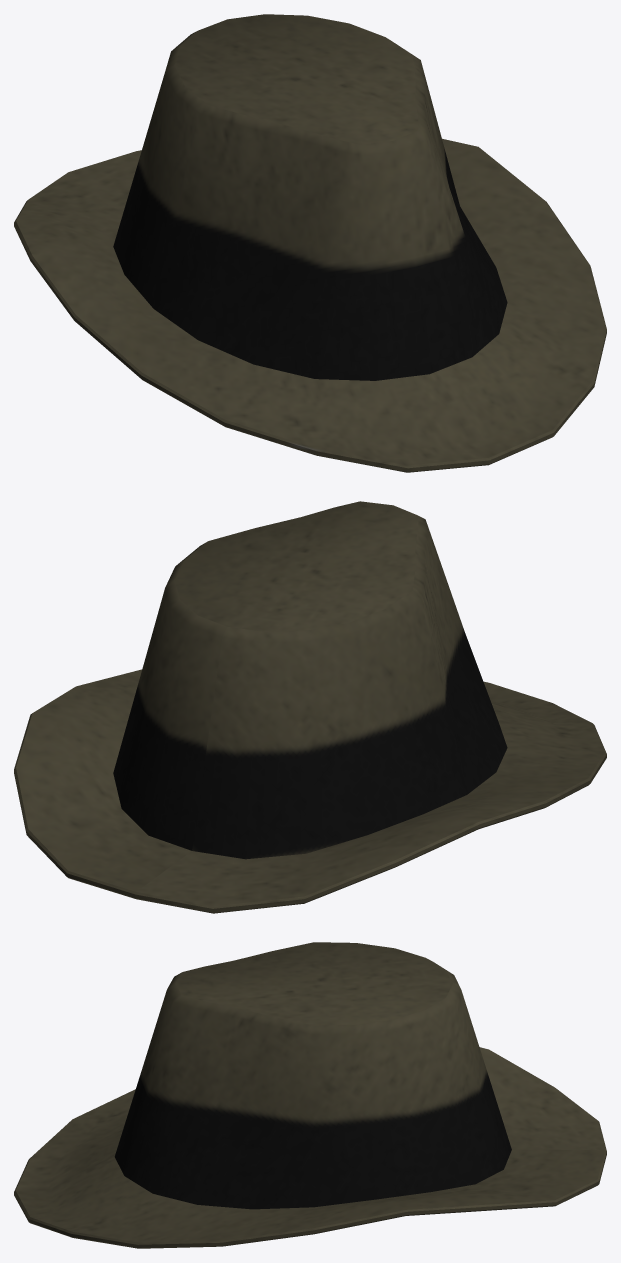
Rendered from detective_hat.fbx.
3 views of the same model, one above another, from view 1: azimuth 30°, elevation 25°; view 2: azimuth 150°, elevation 25°; view 3: azimuth 270°, elevation 25° (orthographic). The views are drawn at different scales.
Parts seen in each view (by area): view 1: detective_hat:Mesh; view 2: detective_hat:Mesh; view 3: detective_hat:Mesh.
Part boxes in pixels (x1,y1,x2,y2): detective_hat:Mesh: (14, 14, 606, 472); detective_hat:Mesh: (14, 501, 606, 913); detective_hat:Mesh: (14, 942, 606, 1248).
Bounding box in the file's own units: 9.41 × 4.85 × 12.22.
